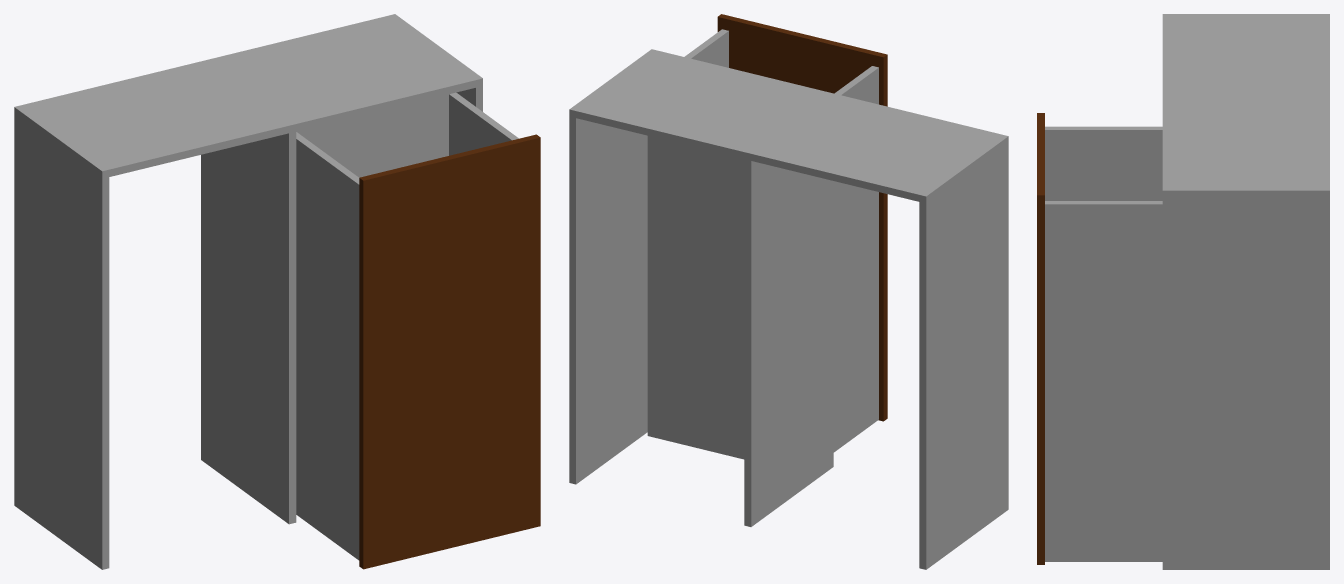
File: meuble_68fb4bb9b8ff2.glb
The picture shows the model from 3 angles, left to right: view 1: azimuth 30°, elevation 25°; view 2: azimuth 150°, elevation 25°; view 3: azimuth 270°, elevation 25°; orthographic projection. The views are drawn at different scales.
Parts seen in each view (by area): view 1: world; view 2: world; view 3: world.
Boxes of the visible parts, bbox=[...] form: world: bbox=[14, 14, 540, 569]; world: bbox=[569, 14, 1008, 569]; world: bbox=[1037, 14, 1329, 569].
Bounding box in the file's own units: 1 × 1 × 0.7.
Materials: 1 (1 with a texture image).
